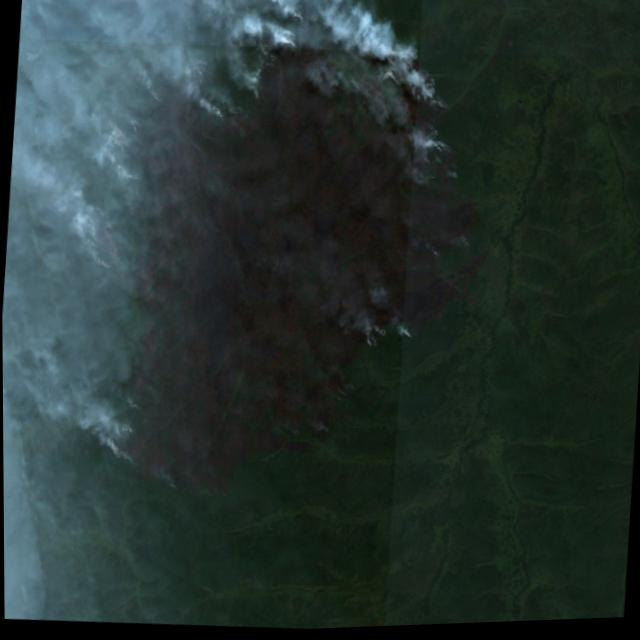fire: (78, 0, 474, 300), (361, 303, 420, 369), (103, 397, 155, 470)
